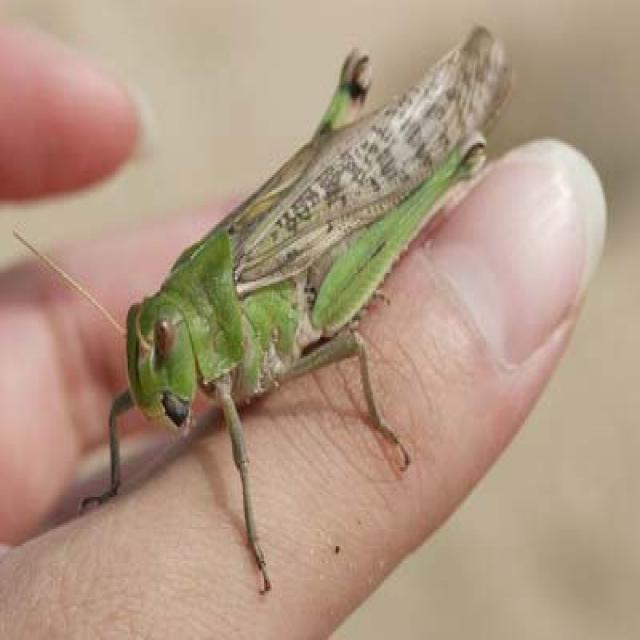ZhaMeng: (66, 29, 536, 514)
